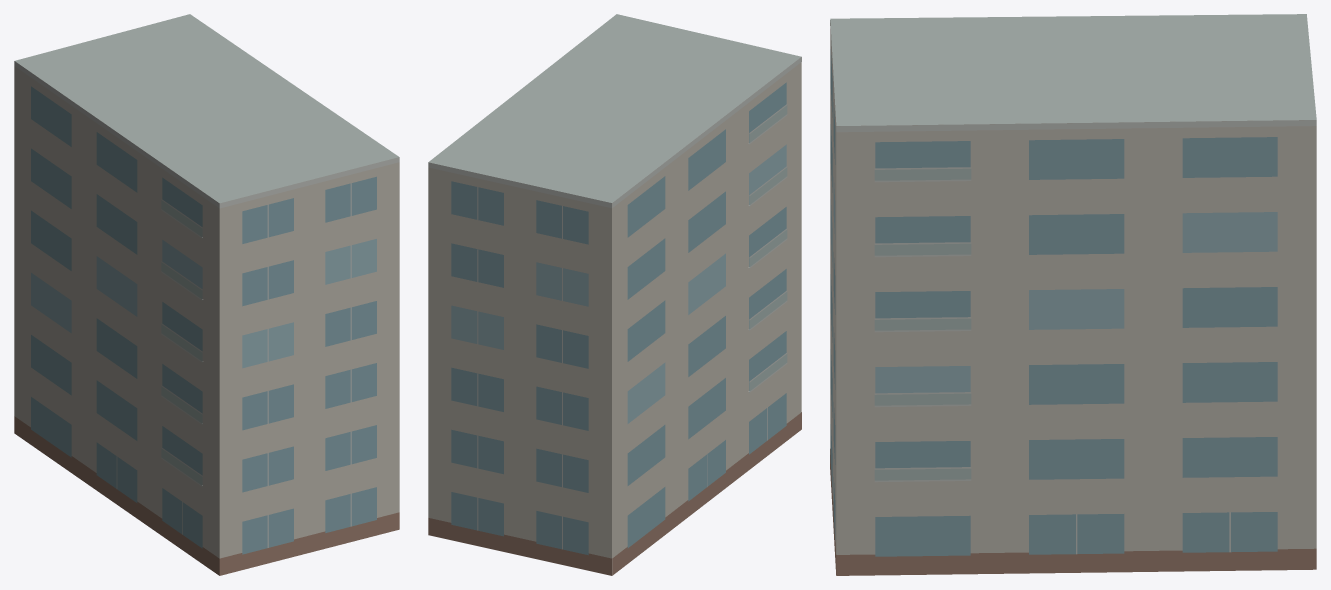
File: survey-upis-33003820.glb
3 views of the same model, side by side, from view 1: azimuth 30°, elevation 25°; view 2: azimuth 150°, elevation 25°; view 3: azimuth 270°, elevation 25° (orthographic). The views are drawn at different scales.
Visible parts, largest first — view 1: survey-upis-33003820.tmp; view 2: survey-upis-33003820.tmp; view 3: survey-upis-33003820.tmp.
Boxes of the visible parts, <box> form: survey-upis-33003820.tmp: <box>14,14,399,575</box>; survey-upis-33003820.tmp: <box>428,14,801,575</box>; survey-upis-33003820.tmp: <box>830,14,1316,575</box>.
Bounding box in the file's own units: 9.47 × 17.7 × 17.36.
